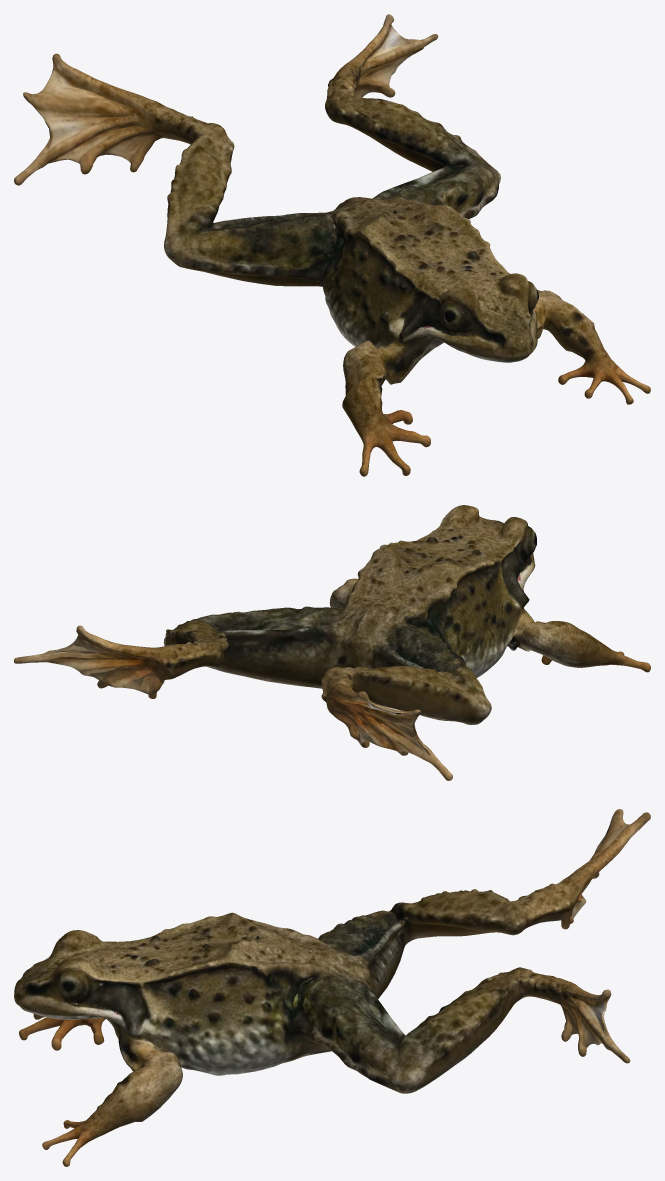
Rendered from commonfrog.swim.glb.
3 renders of one model, top to bottom at view 1: azimuth 30°, elevation 25°; view 2: azimuth 150°, elevation 25°; view 3: azimuth 270°, elevation 25°, orthographic. The views are drawn at different scales.
Visible parts, largest first — view 1: commonfrog.swim; view 2: commonfrog.swim; view 3: commonfrog.swim.
Part boxes in pixels (bbox=[...]): commonfrog.swim: bbox=[14, 14, 650, 476]; commonfrog.swim: bbox=[14, 505, 650, 780]; commonfrog.swim: bbox=[14, 809, 650, 1166].
Size of the model in its own units: 0.1002 by 0.0447 by 0.1247.
1 material, 1 textured.
